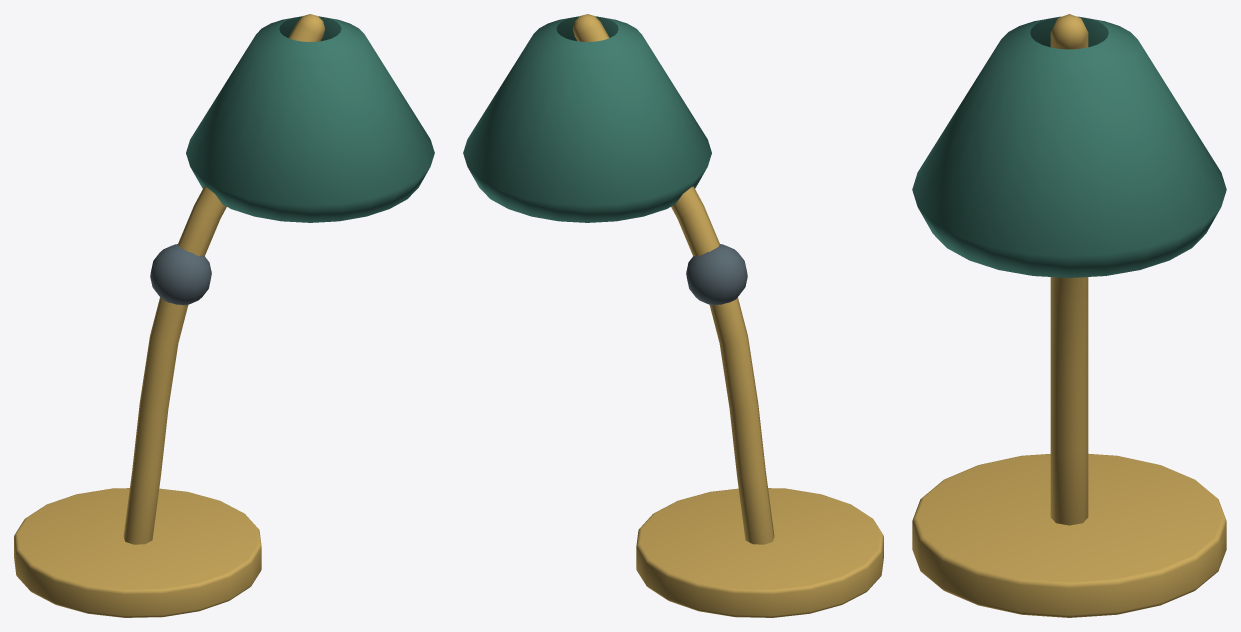
Rendered from task_lamp.glb.
3 views of the same model, side by side, from view 1: azimuth 30°, elevation 25°; view 2: azimuth 150°, elevation 25°; view 3: azimuth 270°, elevation 25° (orthographic). The views are drawn at different scales.
Visible parts, largest first — view 1: Sage_shade, Base, Articulated_arm, Joint; view 2: Sage_shade, Base, Articulated_arm, Joint; view 3: Sage_shade, Base, Articulated_arm.
Part boxes in pixels (<box>): Sage_shade: <box>186,16,434,222</box>; Base: <box>14,488,261,617</box>; Articulated_arm: <box>123,14,324,544</box>; Joint: <box>150,244,211,305</box>; Sage_shade: <box>463,16,711,222</box>; Base: <box>636,488,883,617</box>; Articulated_arm: <box>573,14,774,544</box>; Joint: <box>686,244,747,305</box>; Sage_shade: <box>912,16,1226,277</box>; Base: <box>912,454,1226,617</box>; Articulated_arm: <box>1050,14,1088,525</box>.
Bounding box in the file's own units: 0.36 × 0.4515 × 0.2.
